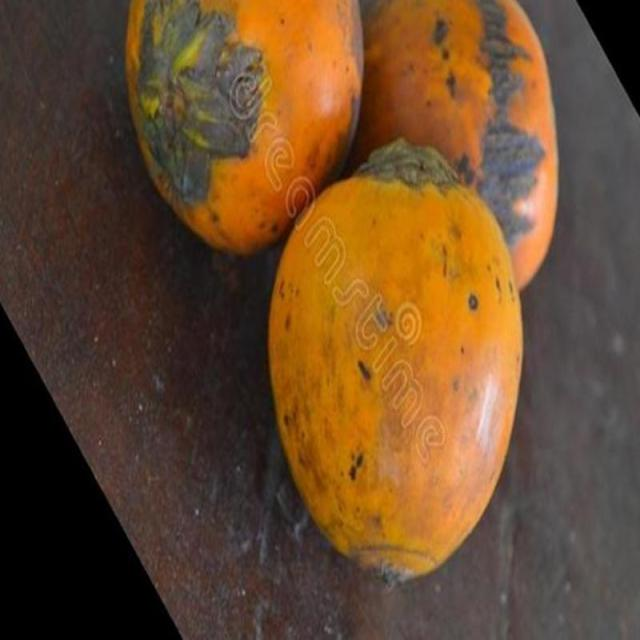good: (266, 138, 525, 585), (339, 0, 558, 291), (125, 0, 365, 259)
